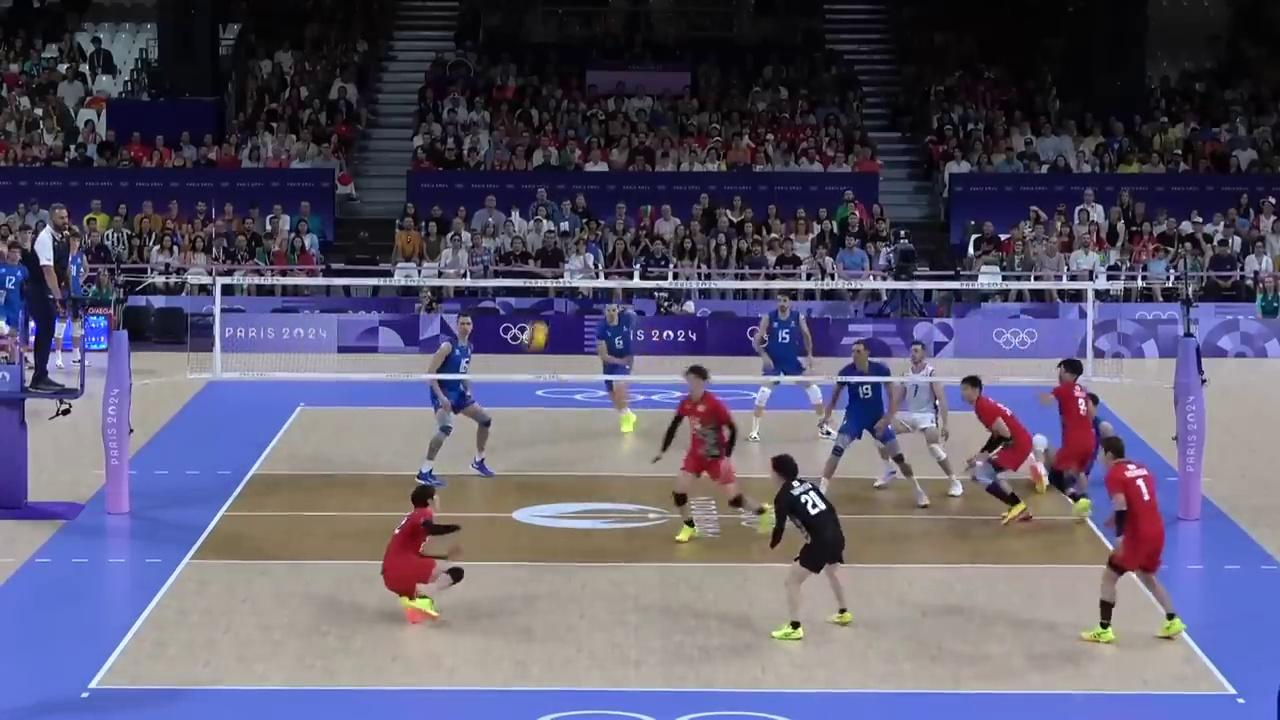ball: (524, 324, 547, 347)
